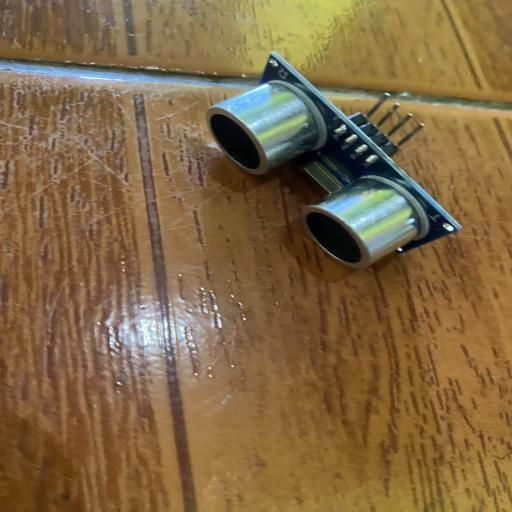Ultrasonic Sensor: (204, 50, 462, 270)
